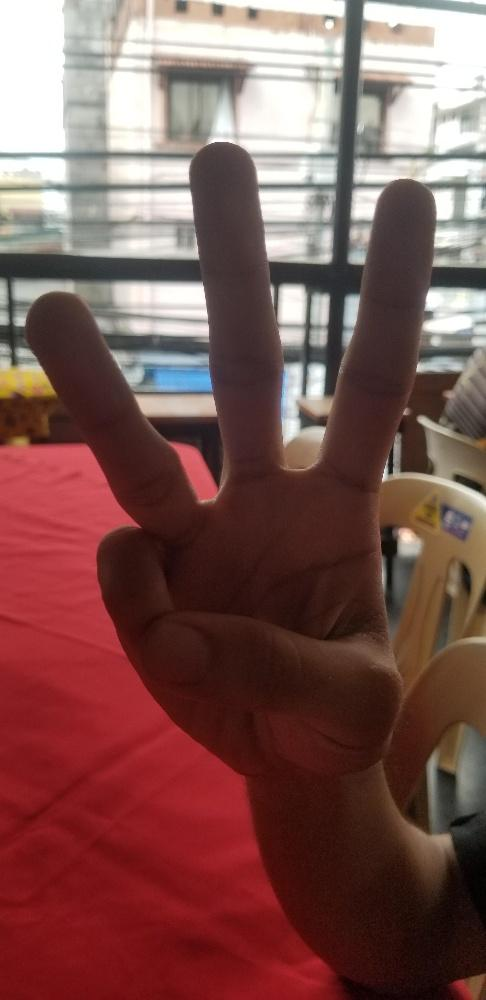w: (22, 134, 436, 784)
